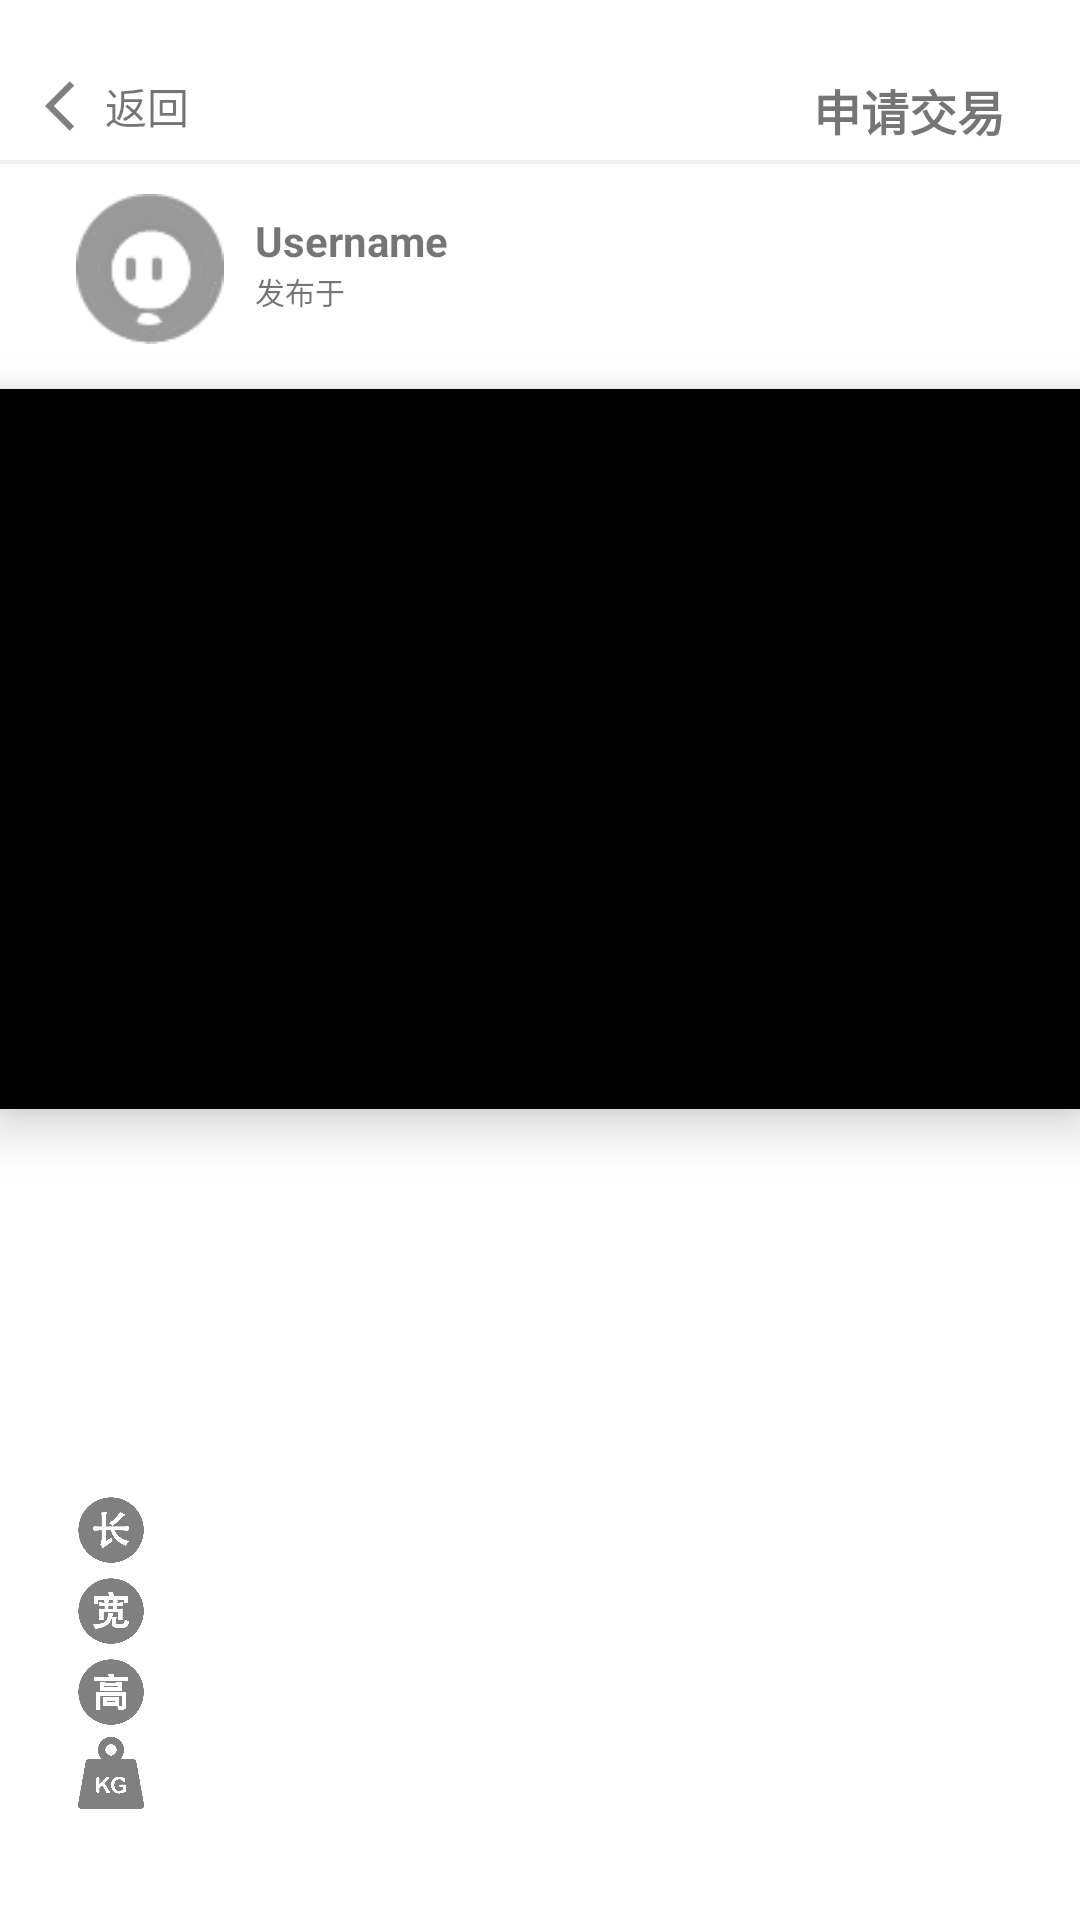

Icons on this 1080x1920 Android screen, each with its box as (x1, y1, x2, y2):
avatardefault: (76, 194, 224, 344)
weight: (78, 1737, 144, 1809)
